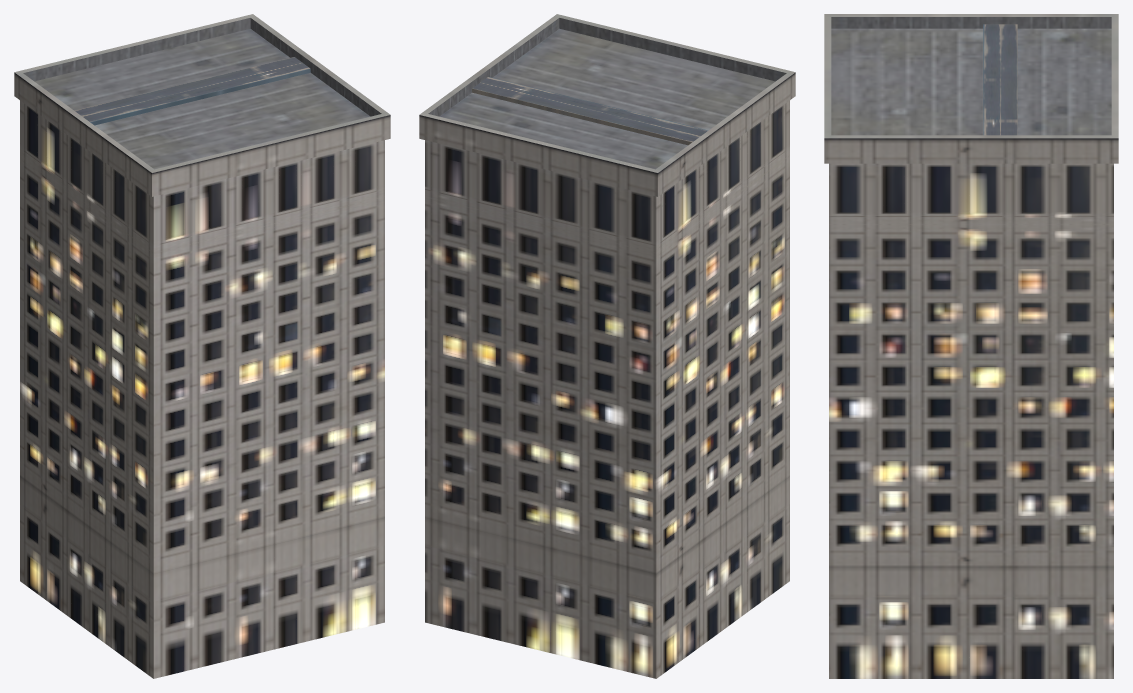
File: Building_Skin_Bg.fbx
3 views of the same model, side by side, from view 1: azimuth 30°, elevation 25°; view 2: azimuth 150°, elevation 25°; view 3: azimuth 270°, elevation 25° (orthographic). The views are drawn at different scales.
Visible parts, largest first — view 1: Building_Skin_Bg; view 2: Building_Skin_Bg; view 3: Building_Skin_Bg.
Part boxes in pixels (bbox=[...]): Building_Skin_Bg: bbox=[14, 14, 390, 678]; Building_Skin_Bg: bbox=[419, 14, 795, 678]; Building_Skin_Bg: bbox=[824, 14, 1118, 678].
Size of the model in its own units: 248 by 504 by 248.
Materials: 1 (1 with a texture image).
